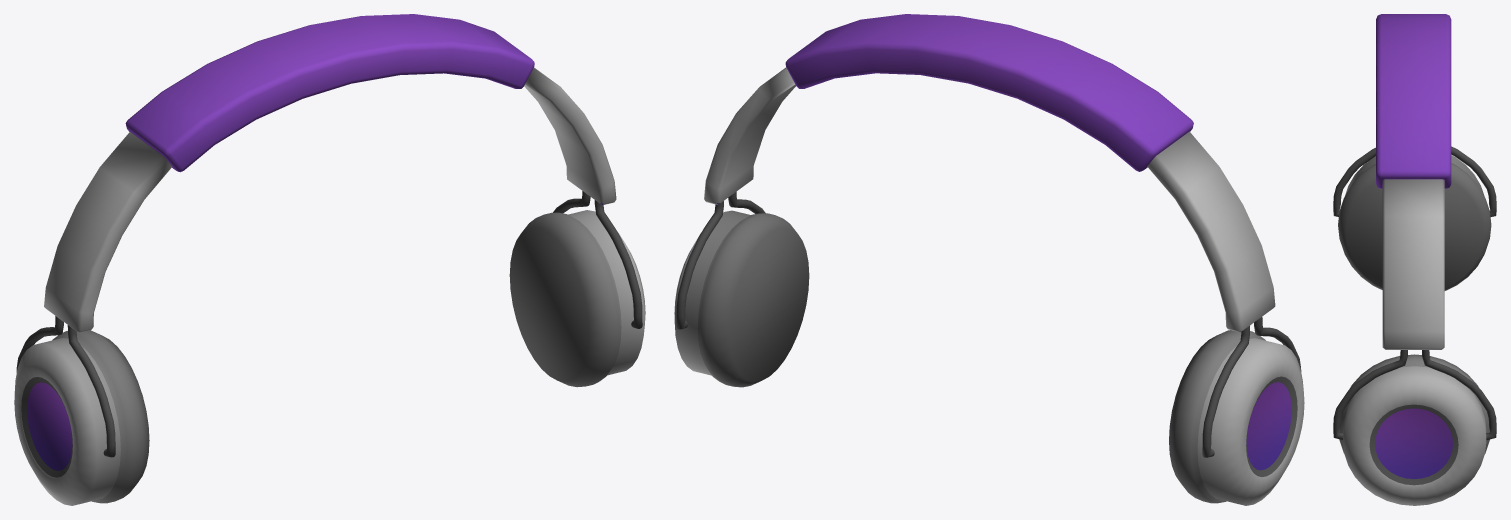
Rendered from earphone7.fbx.
The picture shows the model from 3 angles, left to right: view 1: azimuth 30°, elevation 25°; view 2: azimuth 150°, elevation 25°; view 3: azimuth 270°, elevation 25°; orthographic projection. The views are drawn at different scales.
Parts seen in each view (by area): view 1: Plane.007; view 2: Plane.007; view 3: Plane.007.
Part boxes in pixels (x1,y1,x2,y2): Plane.007: [14, 14, 645, 505]; Plane.007: [674, 14, 1304, 505]; Plane.007: [1333, 14, 1496, 505].
Size of the model in its own units: 88.17 by 304 by 206.
